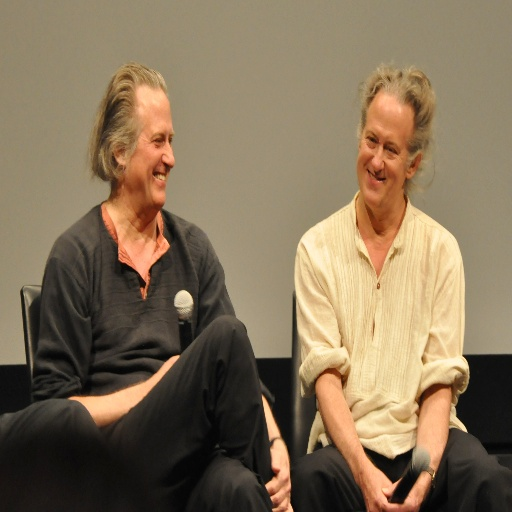hand: (266, 414, 294, 505), (380, 475, 430, 511), (361, 463, 393, 511), (152, 354, 179, 389)
